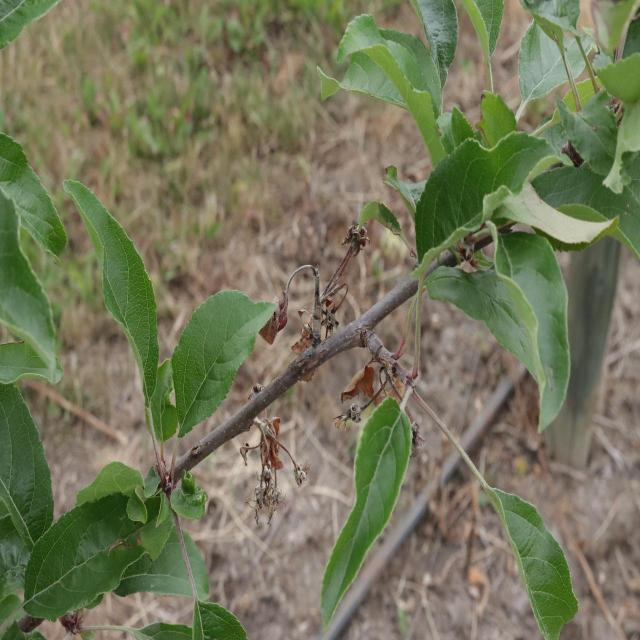-FireBlight-: (236, 414, 288, 502), (352, 333, 396, 420), (260, 280, 304, 340)
